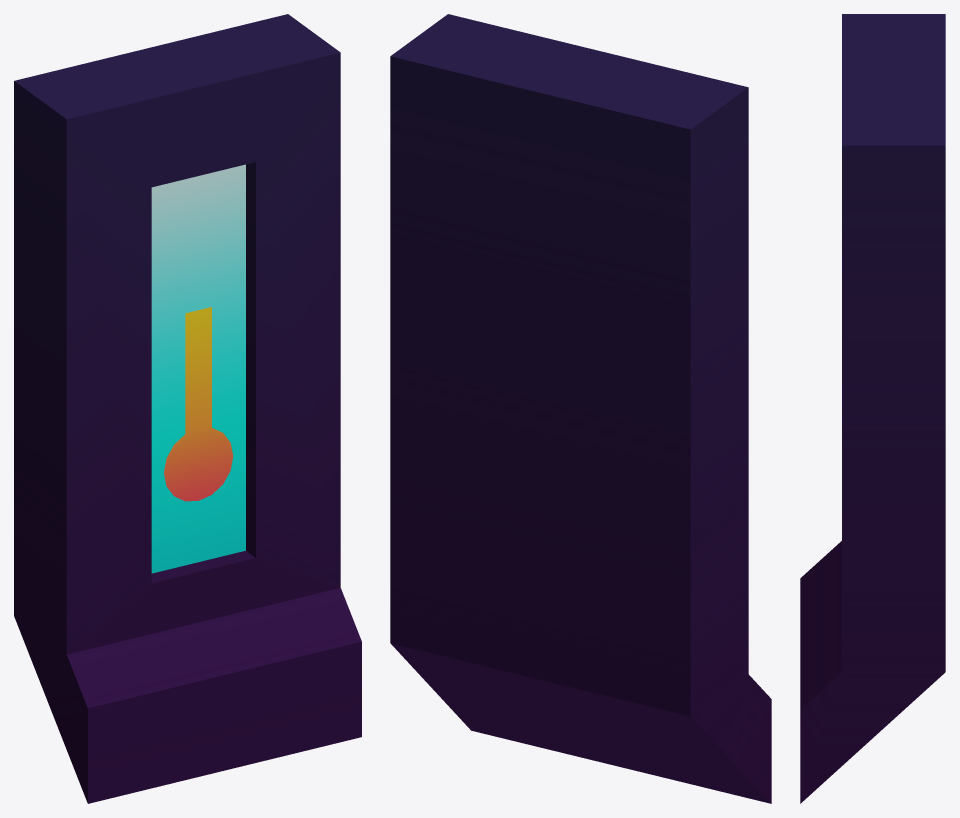
File: SM_Wall_Thermostat.fbx
The picture shows the model from 3 angles, left to right: view 1: azimuth 30°, elevation 25°; view 2: azimuth 150°, elevation 25°; view 3: azimuth 270°, elevation 25°; orthographic projection. The views are drawn at different scales.
Parts seen in each view (by area): view 1: SM_Wall_Thermostat; view 2: SM_Wall_Thermostat; view 3: SM_Wall_Thermostat.
Boxes of the visible parts, left/top/right/bottom form: SM_Wall_Thermostat: left=14, top=14, right=361, bottom=803; SM_Wall_Thermostat: left=390, top=14, right=771, bottom=803; SM_Wall_Thermostat: left=800, top=14, right=945, bottom=803.
Size of the model in its own units: 150 by 350 by 70.
